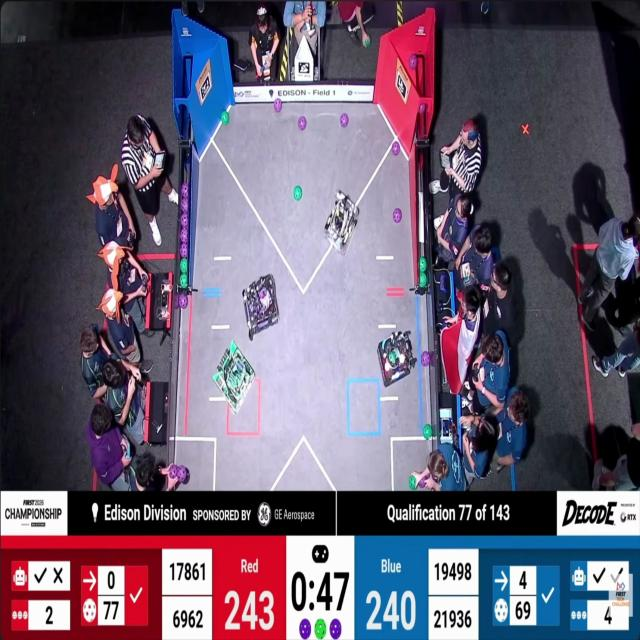artifact_green: (315, 619, 326, 639), (389, 349, 399, 366), (421, 351, 431, 366), (293, 185, 302, 201), (178, 294, 188, 308), (409, 475, 417, 490), (419, 272, 427, 287), (423, 424, 431, 439), (419, 257, 427, 272), (180, 274, 188, 288), (221, 112, 229, 125), (181, 259, 188, 273), (365, 38, 370, 47)
artifact_purple: (299, 619, 311, 640), (330, 619, 341, 639), (177, 465, 188, 483), (180, 467, 190, 484), (297, 116, 307, 131), (421, 351, 430, 366), (181, 182, 189, 198), (440, 275, 447, 293), (169, 464, 178, 478), (274, 98, 282, 113), (409, 54, 417, 69), (180, 243, 188, 258), (419, 476, 429, 488), (393, 208, 401, 223), (179, 295, 188, 308), (180, 229, 188, 243), (392, 141, 400, 155), (181, 198, 188, 213), (181, 214, 188, 228), (341, 113, 348, 127), (259, 288, 267, 300), (420, 104, 426, 113)
